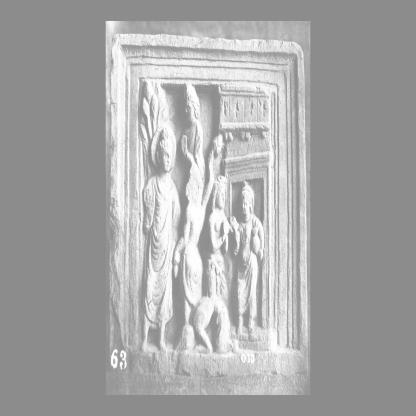buddha-standing: (142, 127, 180, 350)
